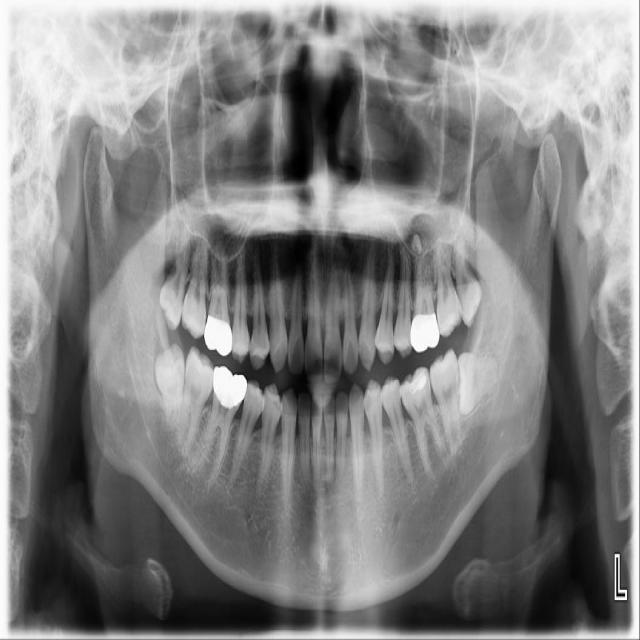3M ESPE Implant: (155, 222, 192, 334)
52: (389, 363, 444, 416), (202, 362, 252, 412), (199, 314, 238, 357), (406, 311, 443, 354)
73: (584, 560, 590, 570)
BioHorizons Implant: (432, 239, 463, 339)
BioLife Implant: (451, 232, 485, 329)
Biomet 3i Implant: (452, 352, 503, 418)
Blue Sky Bio Implant: (427, 348, 463, 456)
Caries: (179, 218, 213, 340)
Implant: (172, 345, 219, 458)
Keystone Dental Implant: (152, 341, 192, 431)
